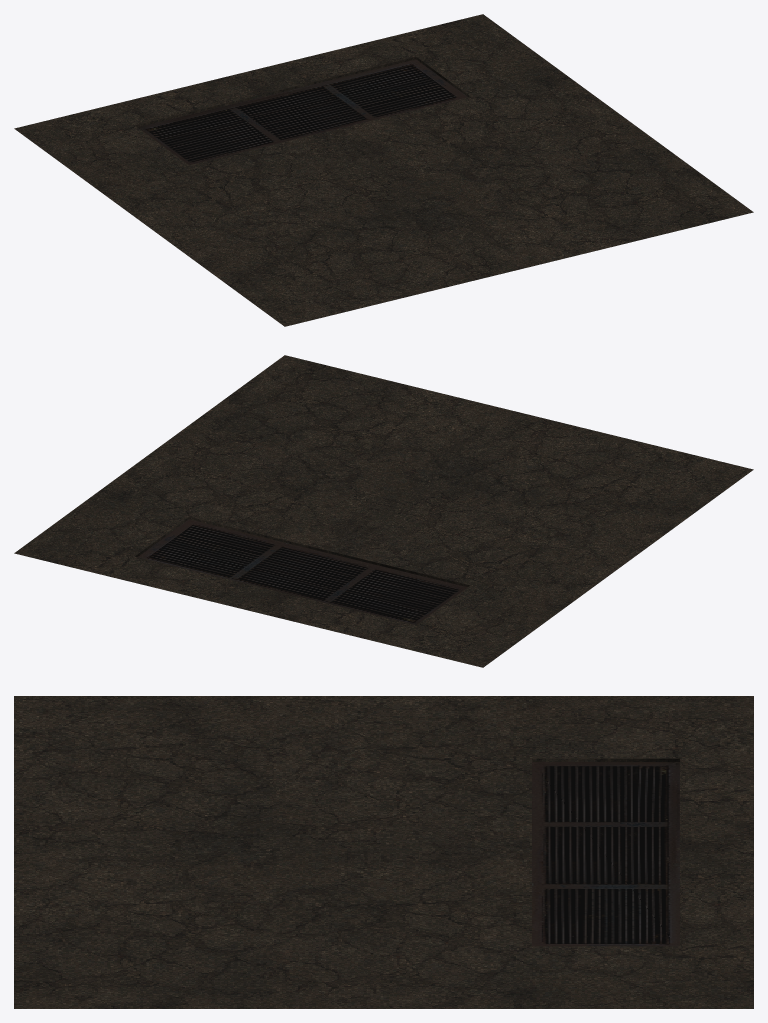
The model's file is asphalt_hr_2.glb.
3 renders of one model, top to bottom at view 1: azimuth 30°, elevation 25°; view 2: azimuth 150°, elevation 25°; view 3: azimuth 270°, elevation 25°, orthographic. The views are drawn at different scales.
Parts seen in each view (by area): view 1: asphalt_hr_2; view 2: asphalt_hr_2; view 3: asphalt_hr_2.
Boxes of the visible parts, x1,y1,x2,y2 form: asphalt_hr_2: (14,14,753,326); asphalt_hr_2: (14,355,753,667); asphalt_hr_2: (14,696,753,1008).
Size of the model in its own units: 4 by 0.02 by 4.
2 materials, 2 textured.
